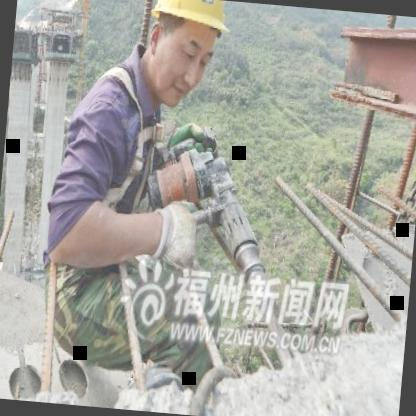helmet: (131, 0, 241, 116)
